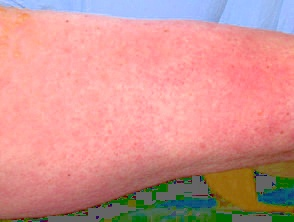SJS-TEN: (3, 0, 294, 219), (2, 6, 50, 75)
